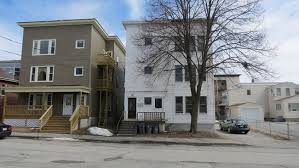Building House: (9, 15, 118, 141), (118, 17, 223, 136), (213, 68, 299, 133)
